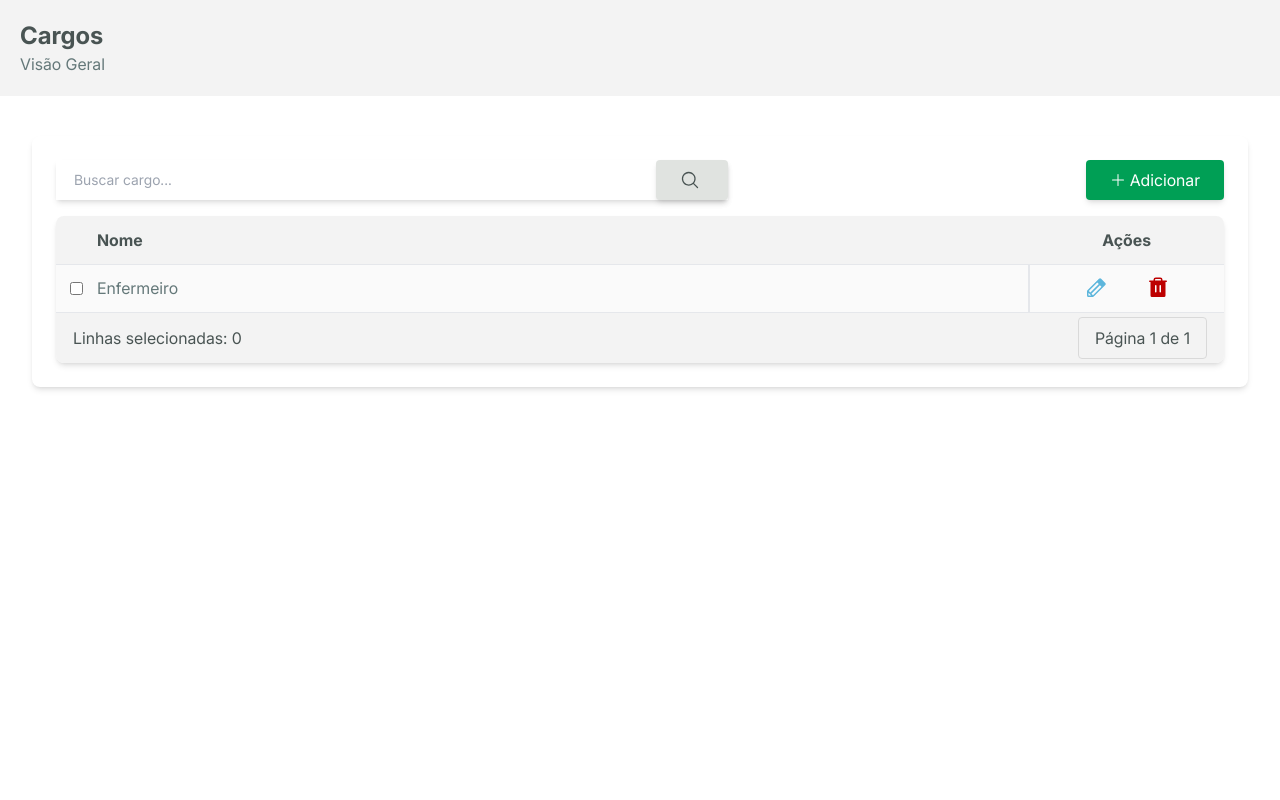
páginas CRUD assistenciais › deletes a listed position only after confirmation
Expected: the text "Enfermeiro" is shown, [96, 264, 1029, 312]
What coordinates should you click on to do the following:
click the button titled "Excluir"
I would click on:
 (1158, 288)
Its box is [1146, 276, 1170, 300].
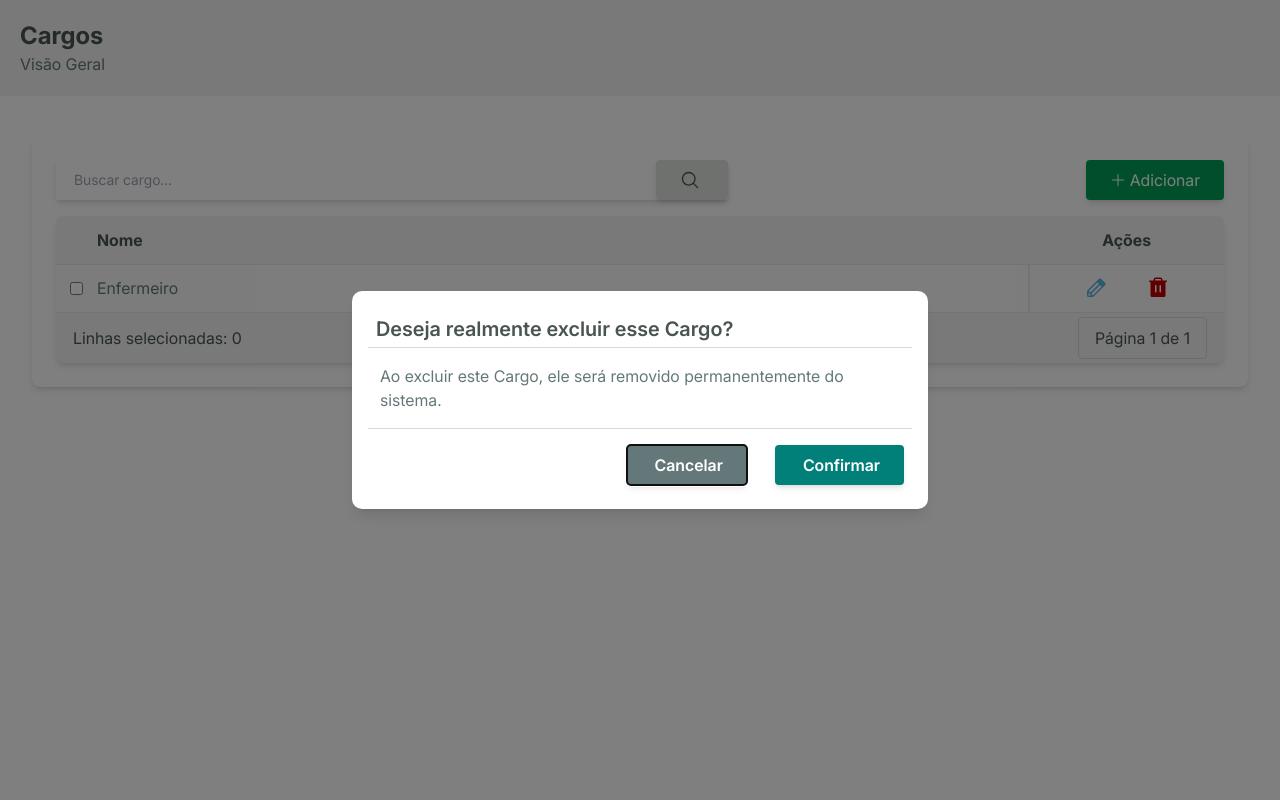
What coordinates should you click on to do the following:
click the button "Confirmar"
I would click on:
 (839, 465)
Its box is [775, 445, 904, 485].
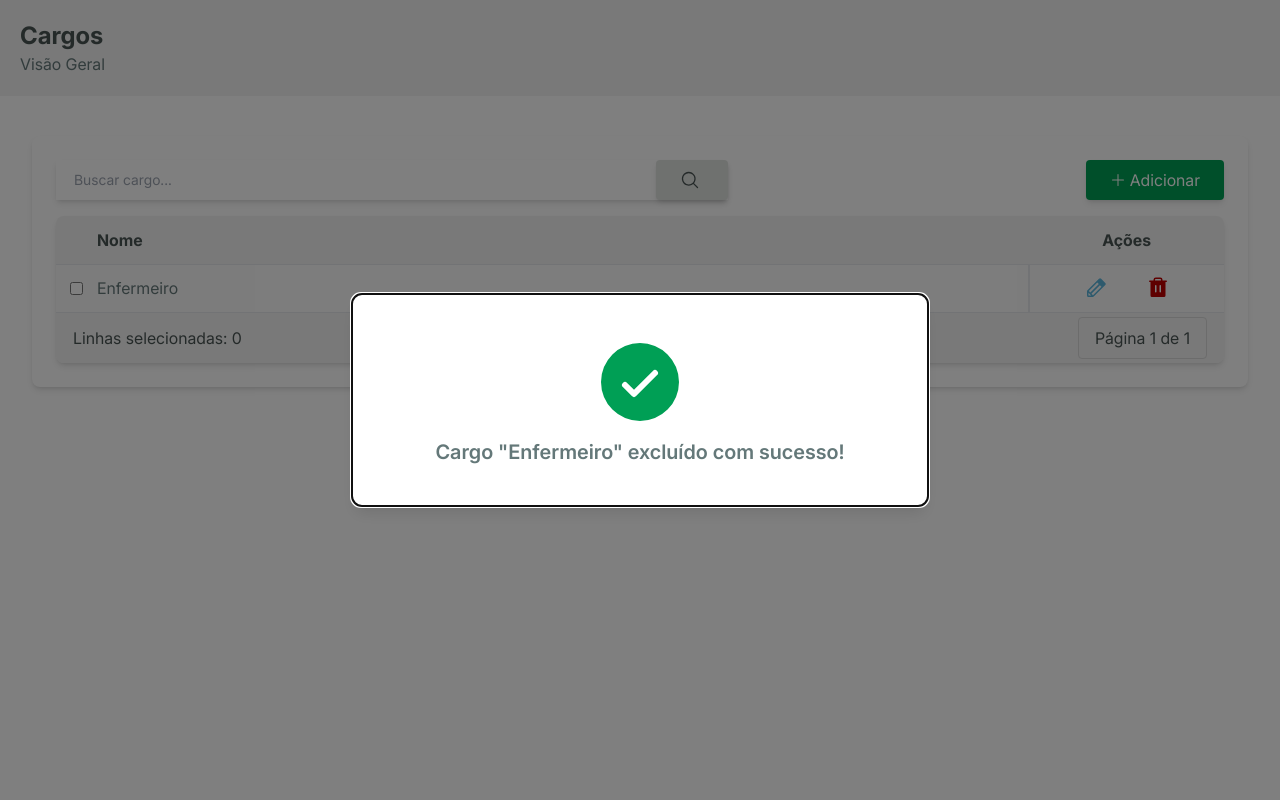
Expected: the text "Cargo \"Enfermeiro\" excluído com sucesso!" is shown, [435, 438, 845, 466]
